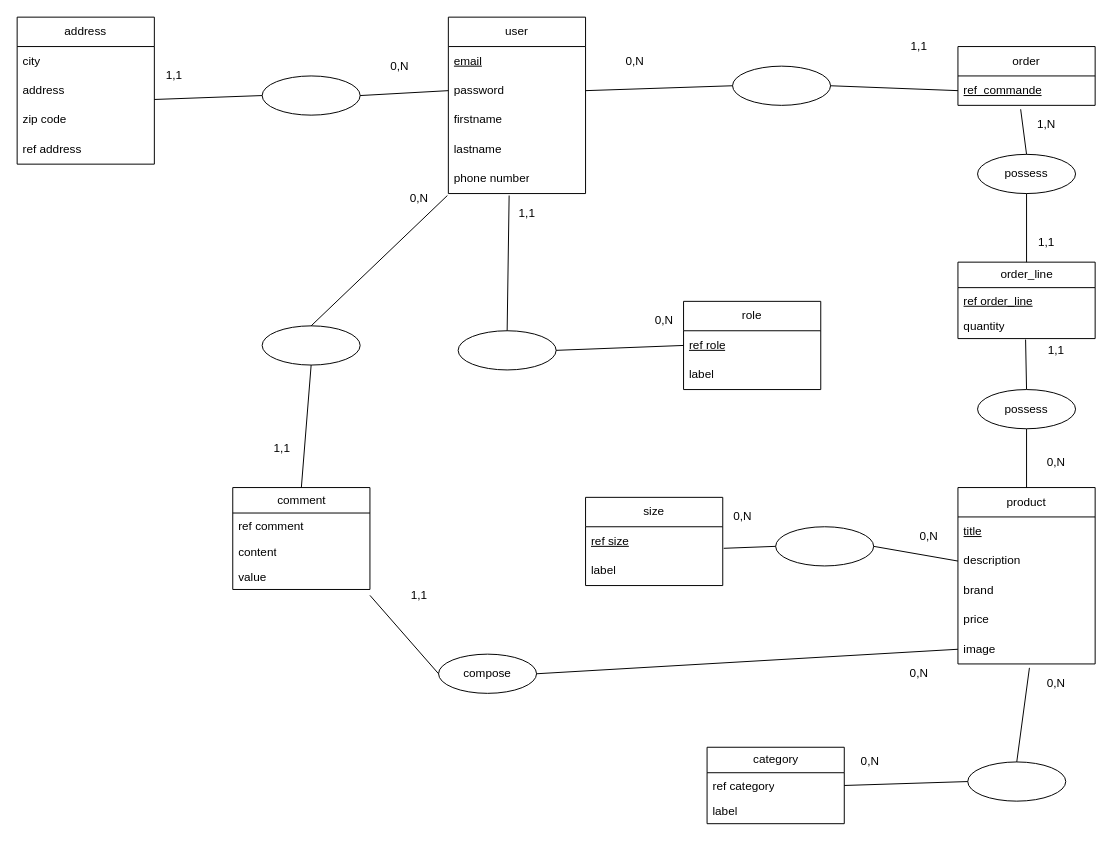
Some shapes in this 1112 by 844 pixel diagram are drawn without their labels. Here are the shapes that lost their labels. From the top down, the centre of each, then its label:
At (x=310, y=95): "have".
At (x=781, y=85): "pass".
At (x=310, y=345): "post".
At (x=506, y=350): "be".
At (x=824, y=546): "include".
At (x=1016, y=781): "be part of".
